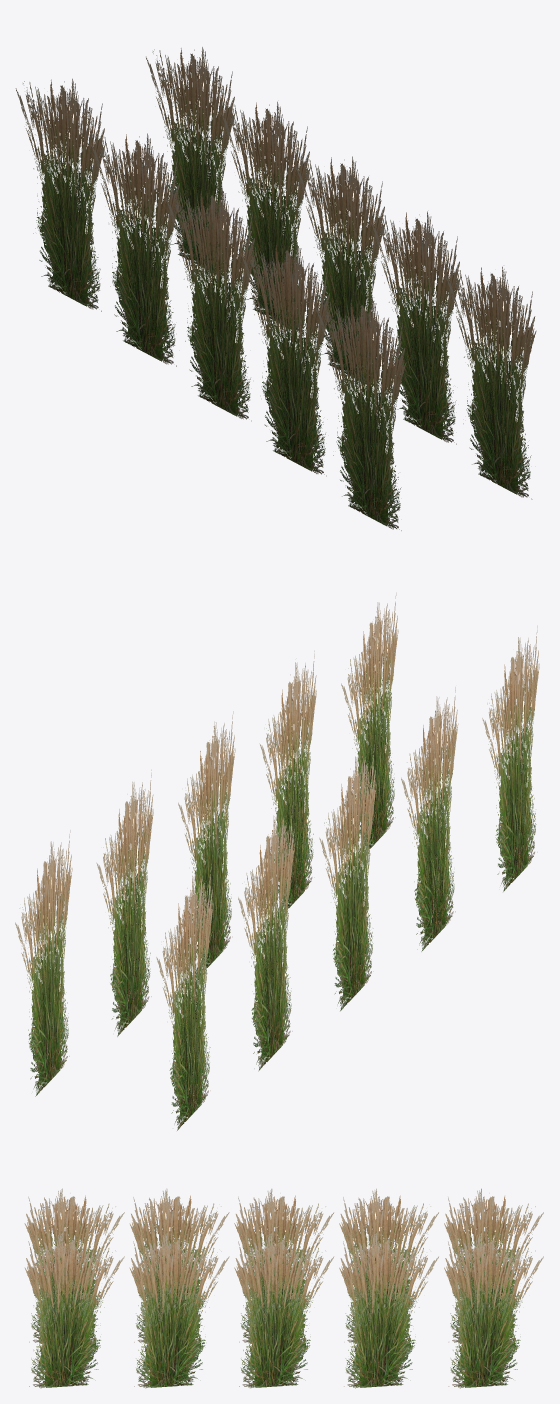
The model's file is Karl Foerster Grass.dae.
3 views of the same model, one above another, from view 1: azimuth 30°, elevation 25°; view 2: azimuth 150°, elevation 25°; view 3: azimuth 270°, elevation 25° (orthographic). The views are drawn at different scales.
Visible parts, largest first — view 1: image_0 (×10); view 2: image_0 (×10); view 3: image_0 (×10).
Part boxes in pixels (x1,y1,x2,y2): image_0 (×10): [15, 47, 536, 530]; image_0 (×10): [15, 592, 539, 1130]; image_0 (×10): [24, 1188, 543, 1388].
Bounding box in the file's own units: 27.89 × 122 × 39.24.
Materials: 1 (1 with a texture image).
